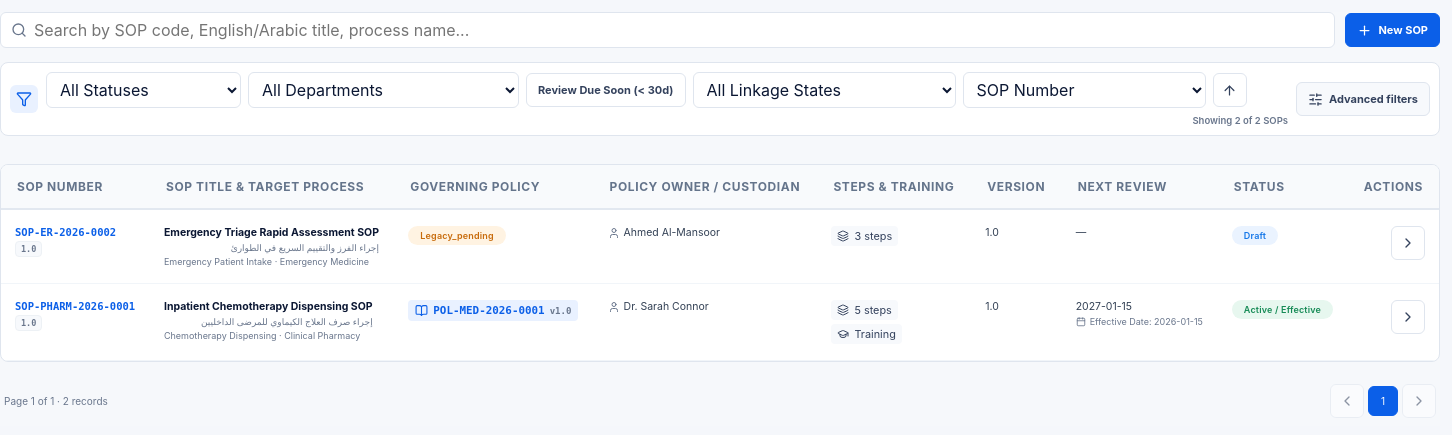
GRC v1.4-E1 / E1R Governed SOP Register & Structured Content Suite › 2. SopRegister Component › filters SOPs by governing policy linkage state
Select "Legacy Pending Link" in the dropdown named "Policy Linkage" at (824, 90), box [692,72,956,108]
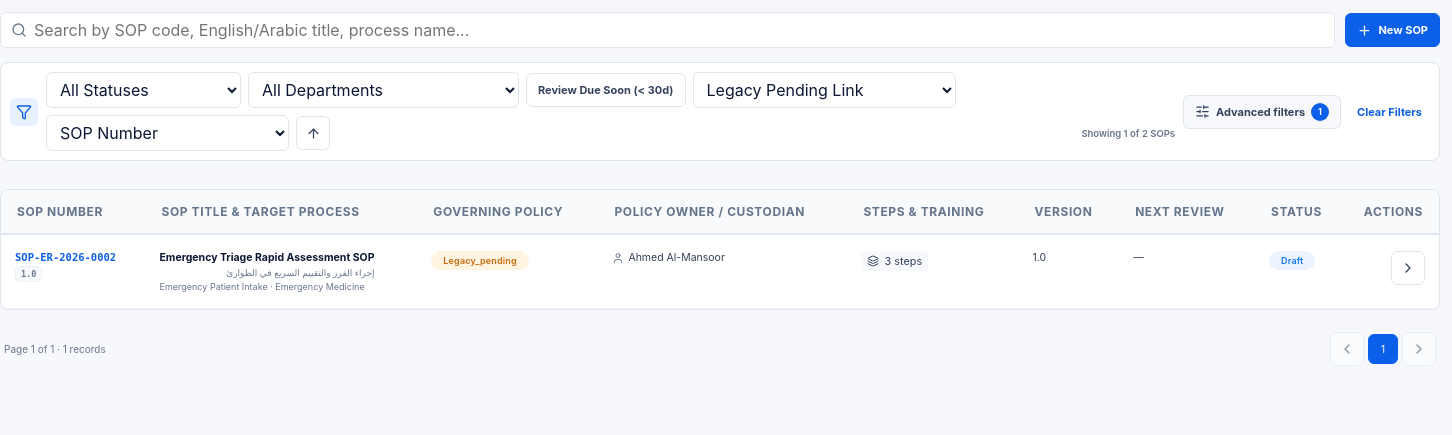
Expected: the text "Emergency Triage Rapid Assessment SOP" is shown, [160,251,374,264]
Result: the button "Inpatient Chemotherapy Dispensing SOP" is gone
